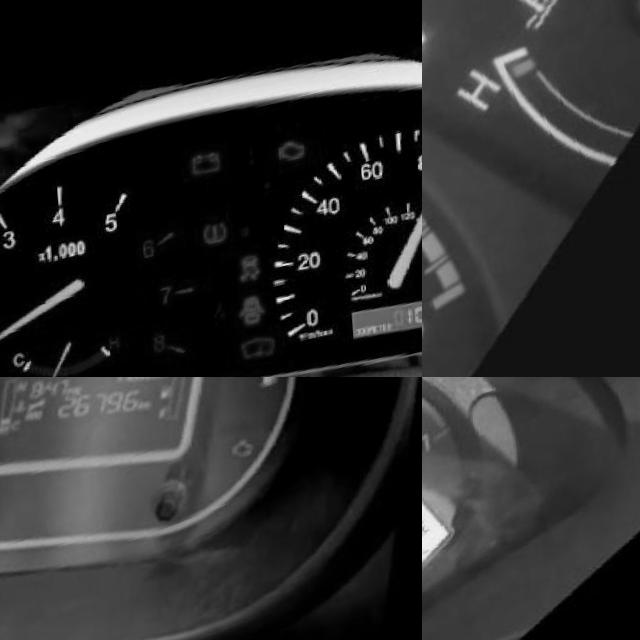Low fuel level: (256, 382, 288, 422)
